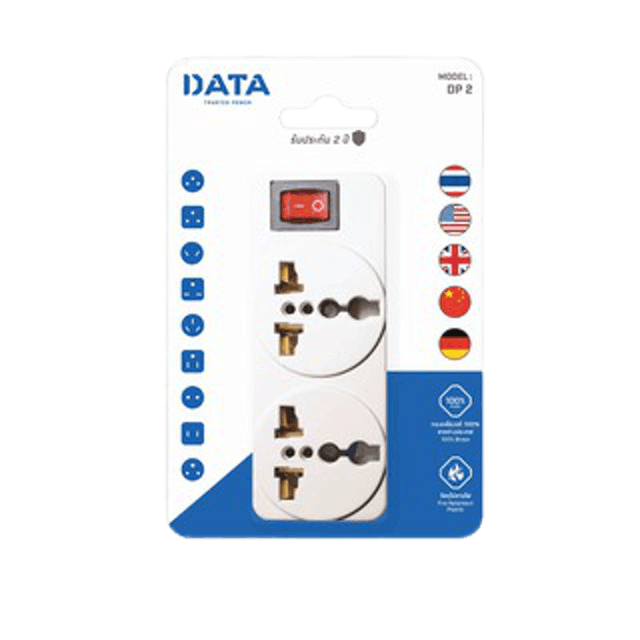Three_eye_plug: (243, 165, 394, 527)
